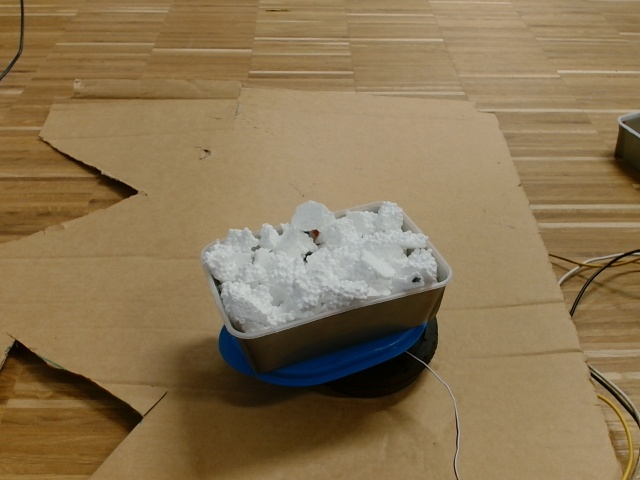Small_full: (199, 198, 455, 343)
